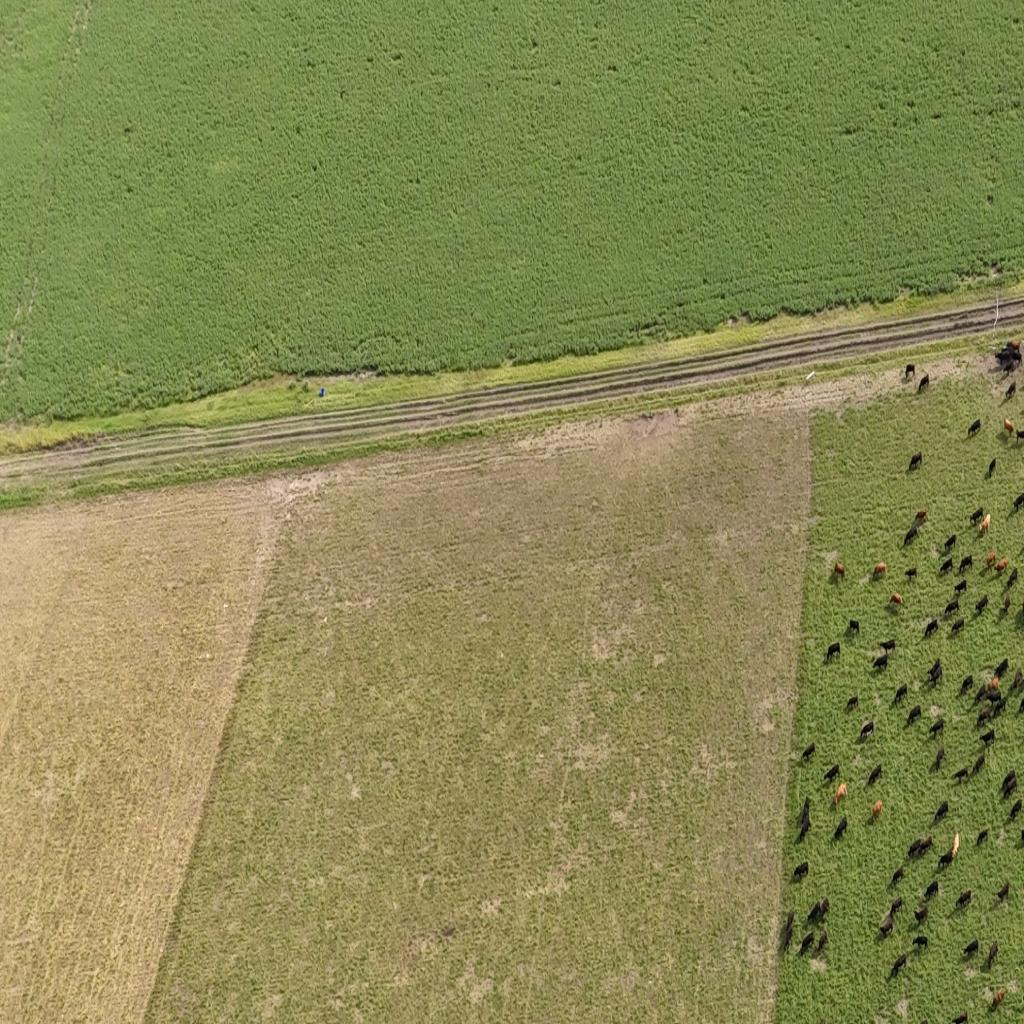cow: (997, 341, 1021, 364), (908, 836, 930, 860), (889, 952, 907, 980), (1004, 563, 1020, 591), (1008, 792, 1024, 819), (799, 931, 815, 957), (1008, 668, 1024, 694), (834, 782, 848, 810), (923, 879, 940, 902), (986, 940, 999, 970), (995, 880, 1011, 904), (878, 914, 894, 938), (992, 694, 1008, 718), (999, 360, 1018, 380), (927, 664, 945, 685), (938, 848, 955, 870), (993, 658, 1010, 680), (819, 892, 831, 923), (858, 719, 874, 742), (962, 938, 980, 958), (934, 799, 949, 823), (782, 924, 794, 954), (799, 795, 811, 825), (1003, 776, 1021, 796), (955, 889, 972, 910), (989, 988, 1005, 1010), (1002, 769, 1018, 791), (928, 718, 944, 740), (976, 709, 992, 731), (974, 684, 990, 706), (834, 816, 848, 841), (867, 763, 882, 786), (905, 706, 922, 726), (807, 899, 820, 925), (972, 754, 986, 778), (927, 655, 943, 676), (825, 642, 841, 662), (793, 862, 809, 882), (824, 764, 840, 784), (980, 728, 996, 748), (907, 452, 922, 473), (872, 654, 889, 672), (912, 933, 929, 951), (985, 687, 1003, 704), (904, 526, 919, 546), (944, 598, 959, 618), (798, 819, 811, 842), (894, 684, 908, 705), (914, 905, 928, 926), (891, 866, 905, 887), (872, 799, 884, 823), (979, 512, 991, 536), (934, 746, 946, 770), (816, 931, 828, 955), (954, 765, 970, 783), (784, 906, 796, 930), (976, 594, 990, 614), (970, 506, 984, 526), (959, 555, 973, 575), (890, 896, 904, 916), (987, 676, 1001, 696), (950, 617, 965, 635), (924, 619, 938, 638), (960, 676, 974, 695), (879, 639, 896, 654), (802, 743, 816, 761), (944, 534, 958, 552), (940, 557, 954, 575), (951, 832, 960, 860), (954, 578, 968, 596), (1012, 492, 1024, 512), (995, 558, 1009, 575), (968, 419, 981, 437), (976, 828, 989, 846), (985, 552, 998, 570), (1004, 418, 1015, 438), (1004, 588, 1014, 610), (890, 593, 904, 608), (1005, 382, 1016, 401), (874, 562, 887, 578), (918, 374, 929, 392), (1015, 346, 1024, 368), (915, 509, 929, 523), (848, 619, 860, 635), (952, 1011, 968, 1023), (846, 696, 859, 710), (905, 566, 917, 581), (905, 364, 916, 380), (835, 562, 845, 578), (988, 458, 996, 478), (1015, 340, 1024, 354), (1018, 427, 1024, 444), (1019, 697, 1024, 714)
